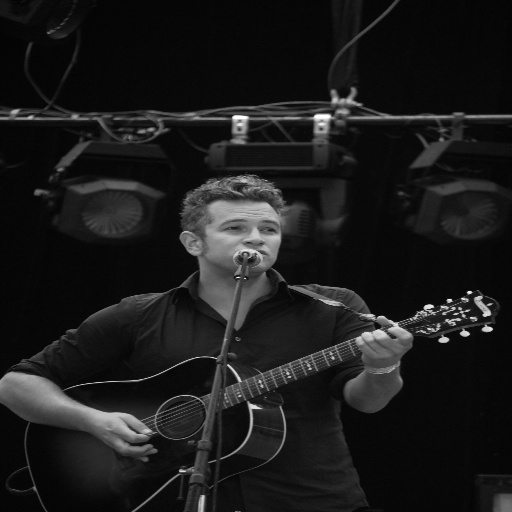hand: (86, 412, 160, 464), (359, 322, 419, 359)
